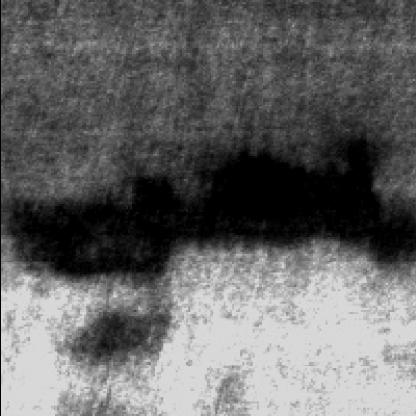patches: (187, 142, 387, 258), (3, 174, 172, 276), (58, 300, 162, 366)
